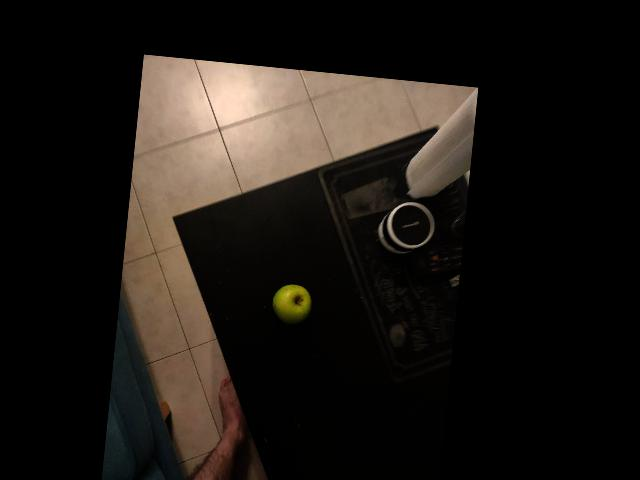apple: (206, 208, 256, 258)
